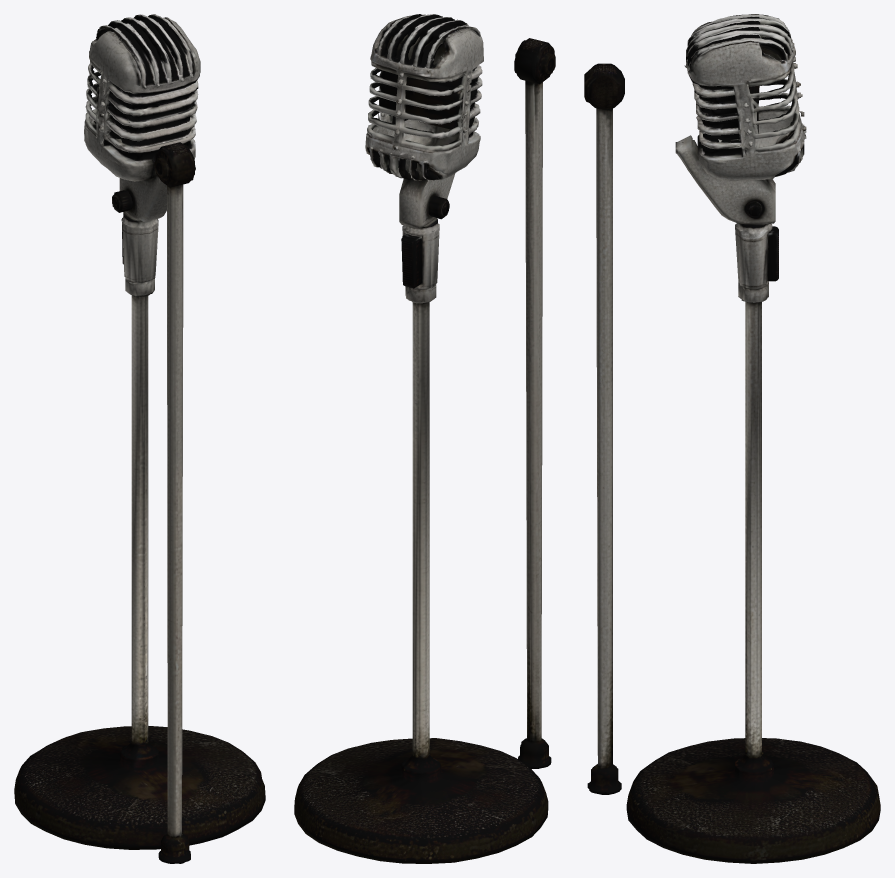
File: theme-microphone-stand-v05.glb
The picture shows the model from 3 angles, left to right: view 1: azimuth 30°, elevation 25°; view 2: azimuth 150°, elevation 25°; view 3: azimuth 270°, elevation 25°; orthographic projection.
Visible parts, largest first — view 1: tripo_node_e0ecbd52-88e2-4375-b3f6-7f93ed72846c; view 2: tripo_node_e0ecbd52-88e2-4375-b3f6-7f93ed72846c; view 3: tripo_node_e0ecbd52-88e2-4375-b3f6-7f93ed72846c.
Boxes of the visible parts, x1,y1,x2,y2 form: tripo_node_e0ecbd52-88e2-4375-b3f6-7f93ed72846c: (14, 14, 265, 863); tripo_node_e0ecbd52-88e2-4375-b3f6-7f93ed72846c: (294, 14, 555, 863); tripo_node_e0ecbd52-88e2-4375-b3f6-7f93ed72846c: (584, 14, 880, 863).
Bounding box in the file's own units: 0.4432 × 1.5 × 0.5137.
1 material, 1 textured.
